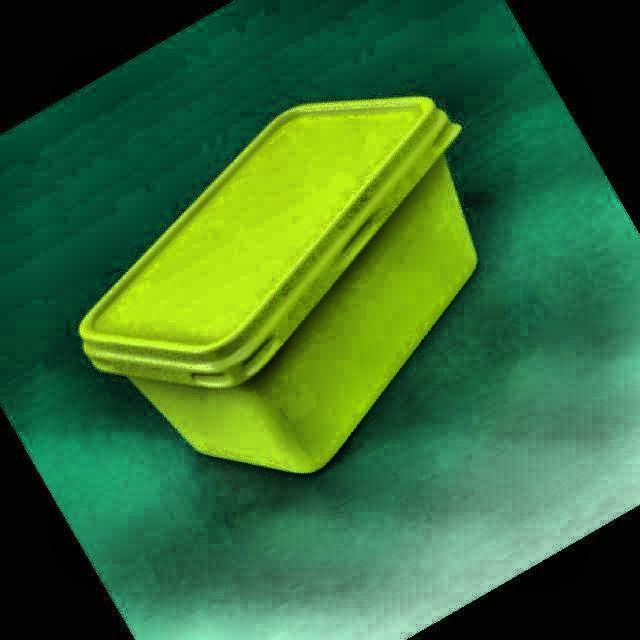plastic: (79, 98, 475, 473)
